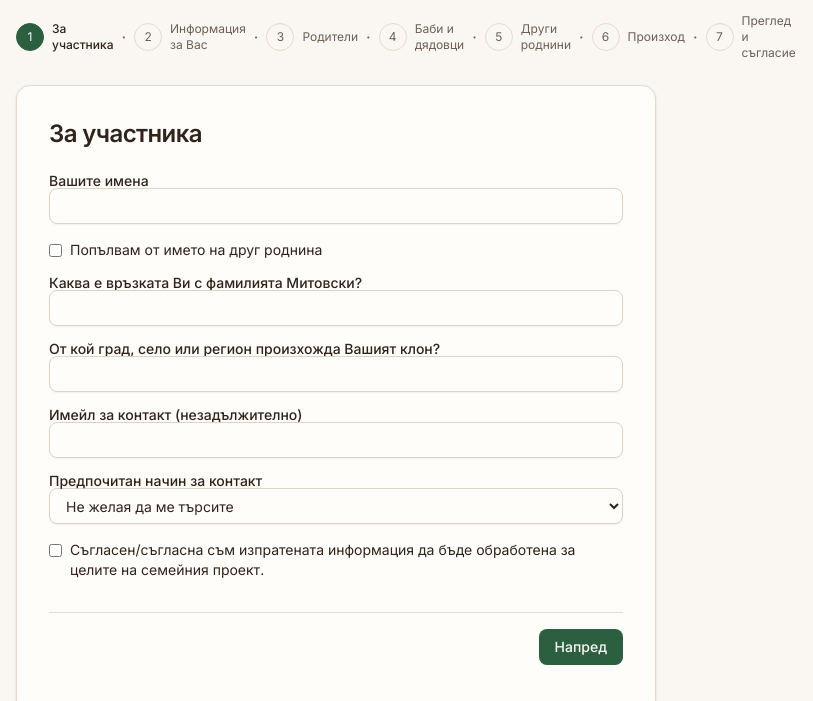
Test case: questionnaire multi-step form › advances to step 2 once step 1 is valid
Type "Иван Тестов" into the field labelled "Вашите имена".
click(336, 206); type("Иван Тестов")  # box [49, 188, 623, 224]
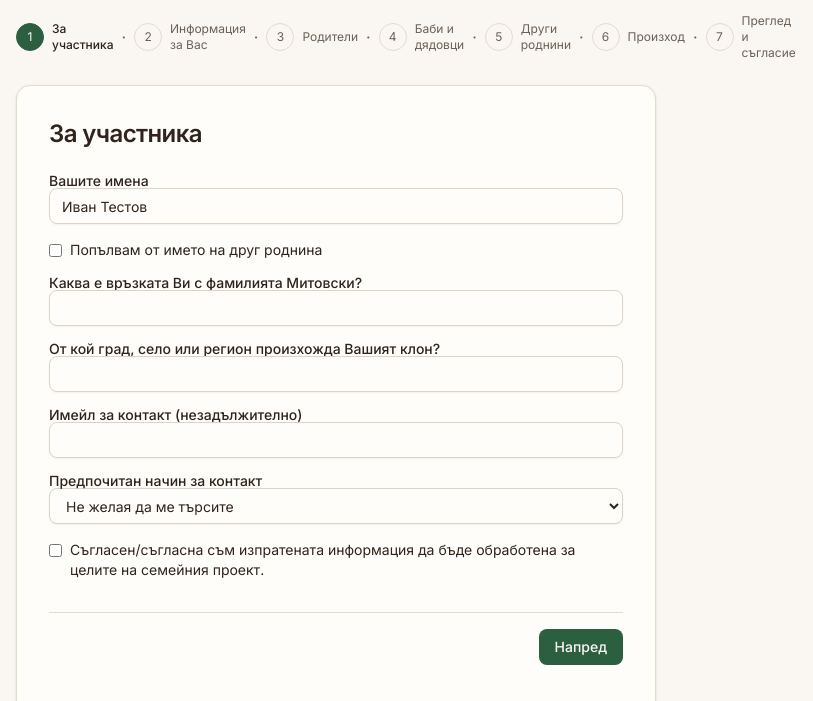
Type "внук" into the field labelled "Каква е връзката Ви с фамилията Митовски?".
click(336, 308); type("внук")  # box [49, 290, 623, 326]
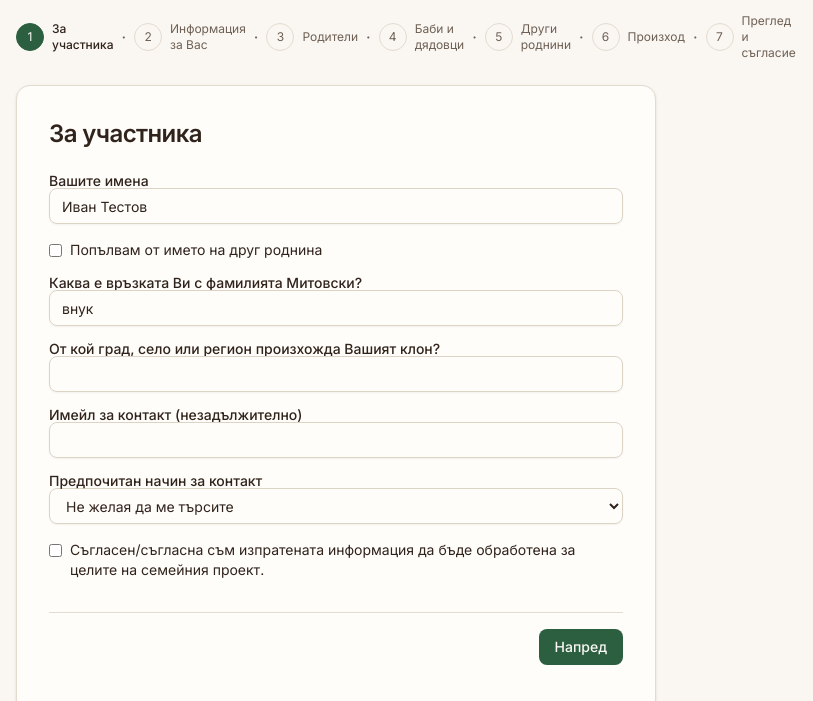
Click the checkbox labelled "Съгласен/съгласна съм изпратената информация".
click(56, 550)  # box [49, 544, 62, 557]
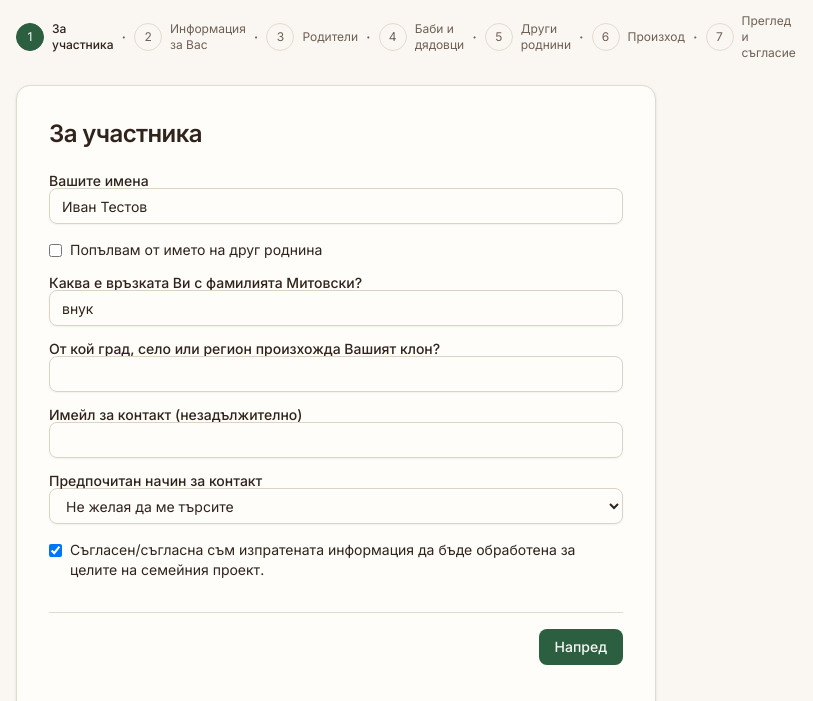
Click the button "Напред".
click(581, 647)  # box [539, 629, 623, 665]
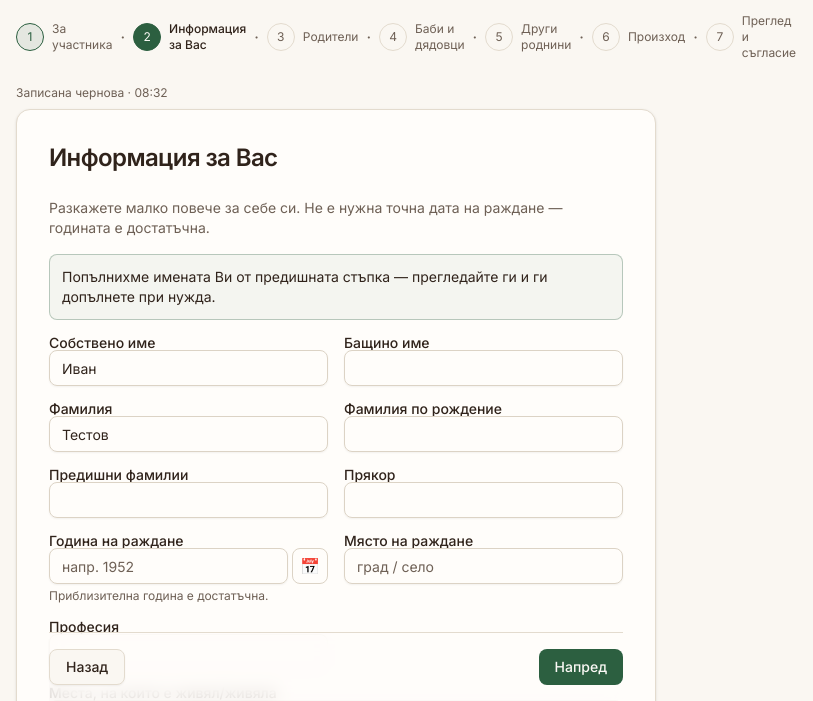
Expected: the heading "Информация за Вас" is shown, [49, 143, 278, 172]
